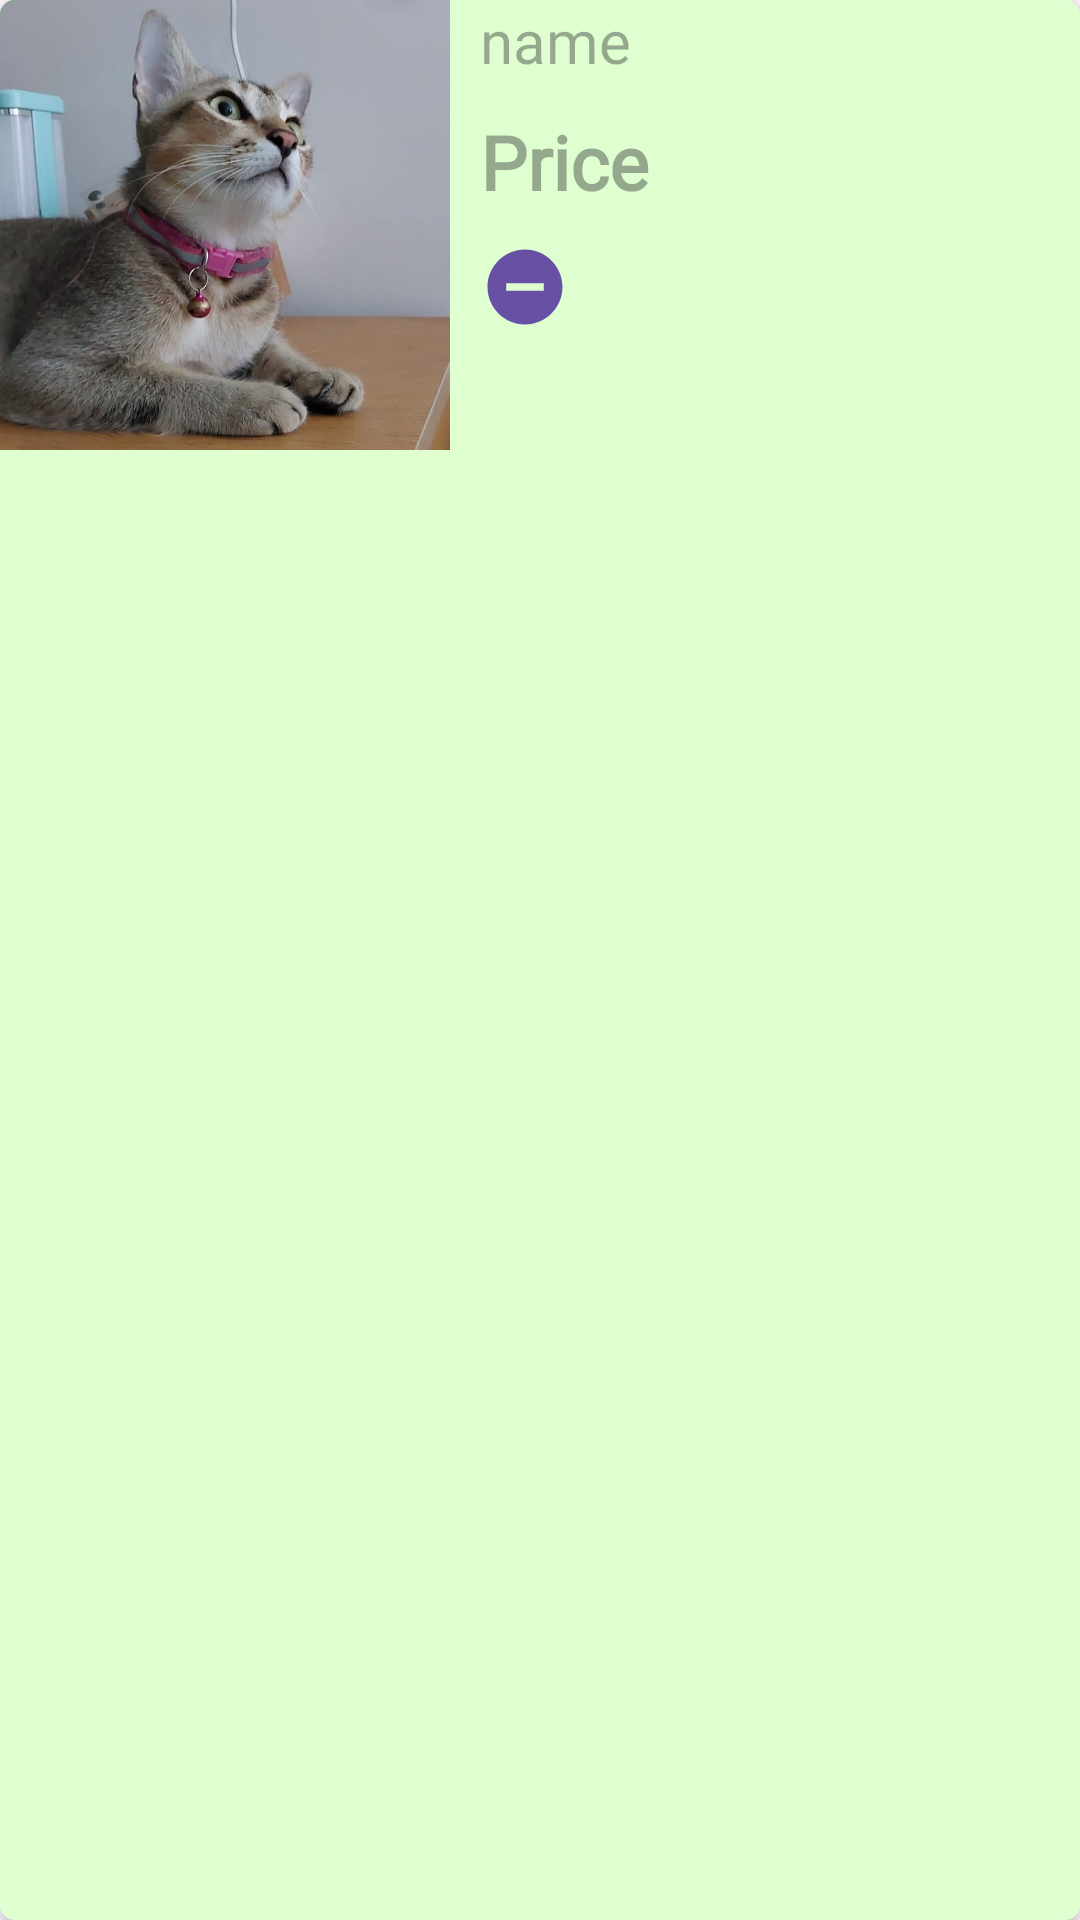

Icon bounding boxes for this 1080w x 1920h phone screenshot, format box(x1, y1, x2, y2):
remove circle: box(487, 249, 563, 325)
